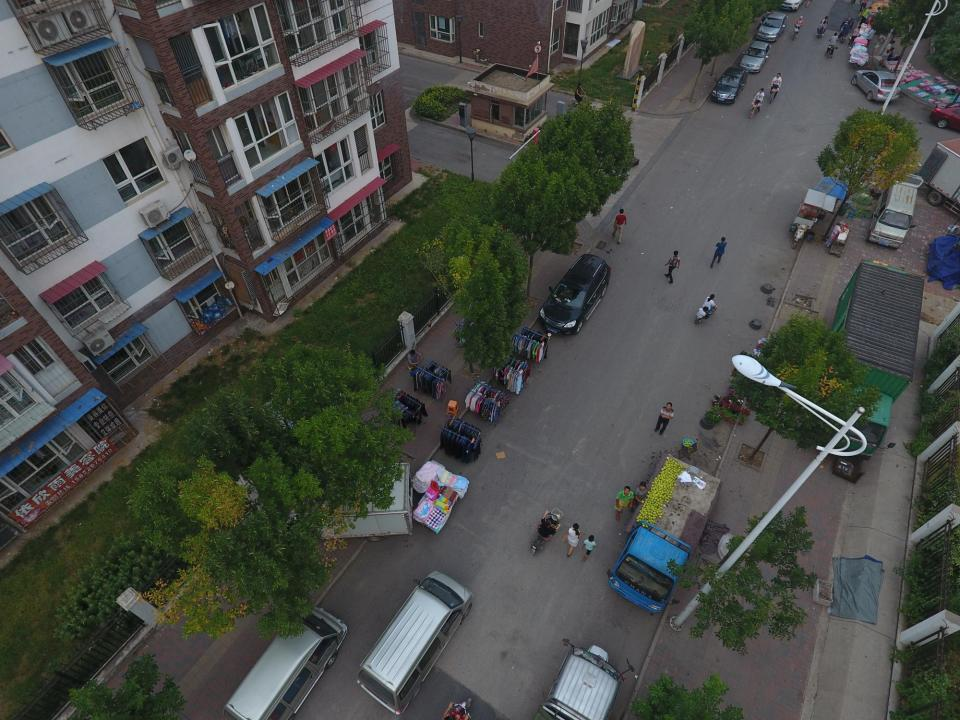car: (539, 253, 609, 336), (851, 67, 901, 103), (708, 65, 747, 105), (756, 10, 787, 44), (740, 39, 770, 72)
truck: (798, 260, 924, 460), (605, 454, 721, 616), (241, 458, 416, 554), (535, 638, 633, 720)
van: (356, 571, 474, 715), (224, 604, 346, 720), (866, 179, 918, 249)
